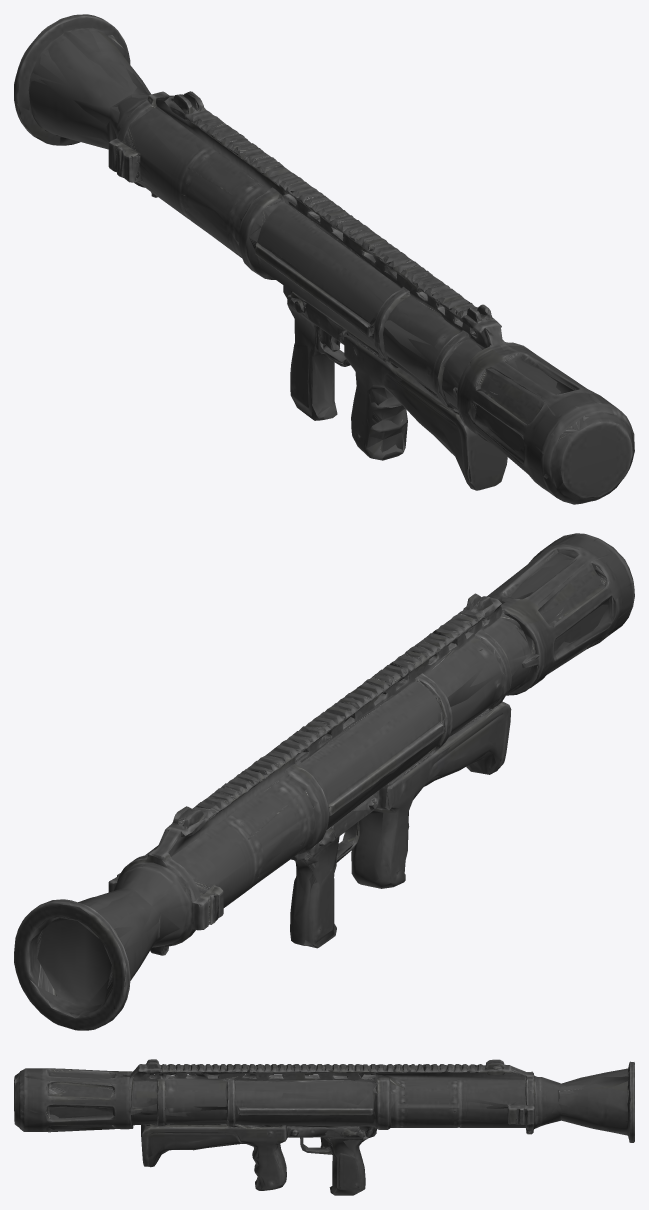
Rendered from heavy_rocket_launcher.glb.
3 views of the same model, one above another, from view 1: azimuth 30°, elevation 25°; view 2: azimuth 150°, elevation 25°; view 3: azimuth 270°, elevation 25° (orthographic). The views are drawn at different scales.
Parts seen in each view (by area): view 1: model, mesh_lod; view 2: model, mesh_lod; view 3: model, mesh_lod.
Boxes of the visible parts, x1,y1,x2,y2 form: model: (14,14,634,504); mesh_lod: (14,15,634,504); model: (14,533,634,1030); mesh_lod: (14,533,633,1030); model: (14,1059,634,1195); mesh_lod: (15,1059,634,1195).
Size of the model in its own units: 0.1376 by 0.2576 by 1.1.
1 material, 1 textured.
